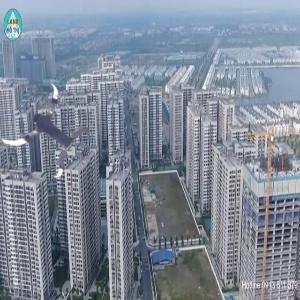drone: (2, 83, 91, 172)
